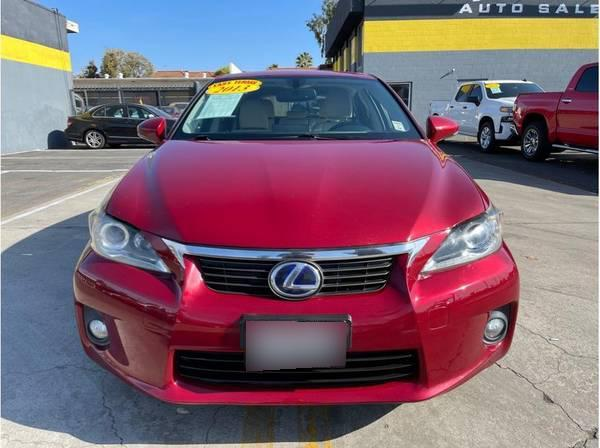Front_Bumper: (73, 244, 520, 404)
Front_Windshield: (169, 74, 423, 141)
Grille: (154, 230, 441, 294)
Hood: (101, 140, 483, 248)
Left_Headlight: (416, 203, 504, 275)
Left_Mirror: (427, 116, 465, 143)
Right_Headlight: (88, 215, 171, 281)
Right_Mirror: (138, 116, 169, 146)
